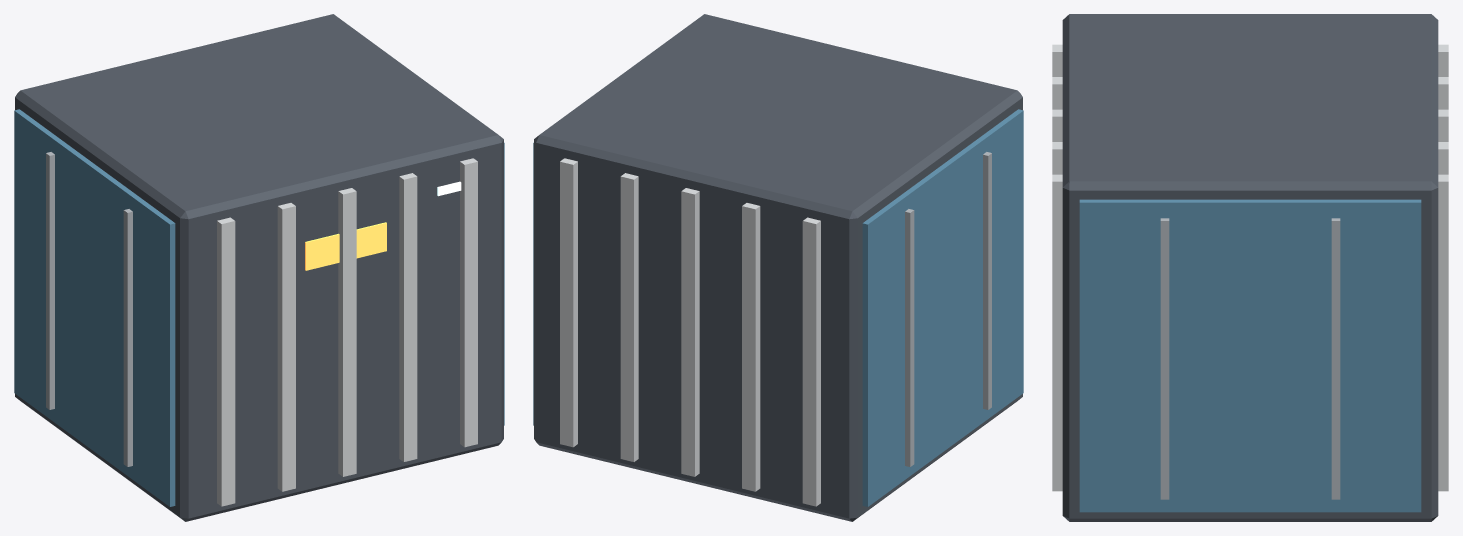
File: spaceship-deck-kit-cargo-container-40d645f5__12590.glb
The picture shows the model from 3 angles, left to right: view 1: azimuth 30°, elevation 25°; view 2: azimuth 150°, elevation 25°; view 3: azimuth 270°, elevation 25°; orthographic projection. The views are drawn at different scales.
Visible parts, largest first — view 1: cargo-container; view 2: cargo-container; view 3: cargo-container.
Part boxes in pixels (x1,y1,x2,y2): cargo-container: [14, 14, 504, 521]; cargo-container: [533, 14, 1023, 521]; cargo-container: [1052, 14, 1448, 521].
Bounding box in the file's own units: 2.56 × 2.2 × 2.32.
